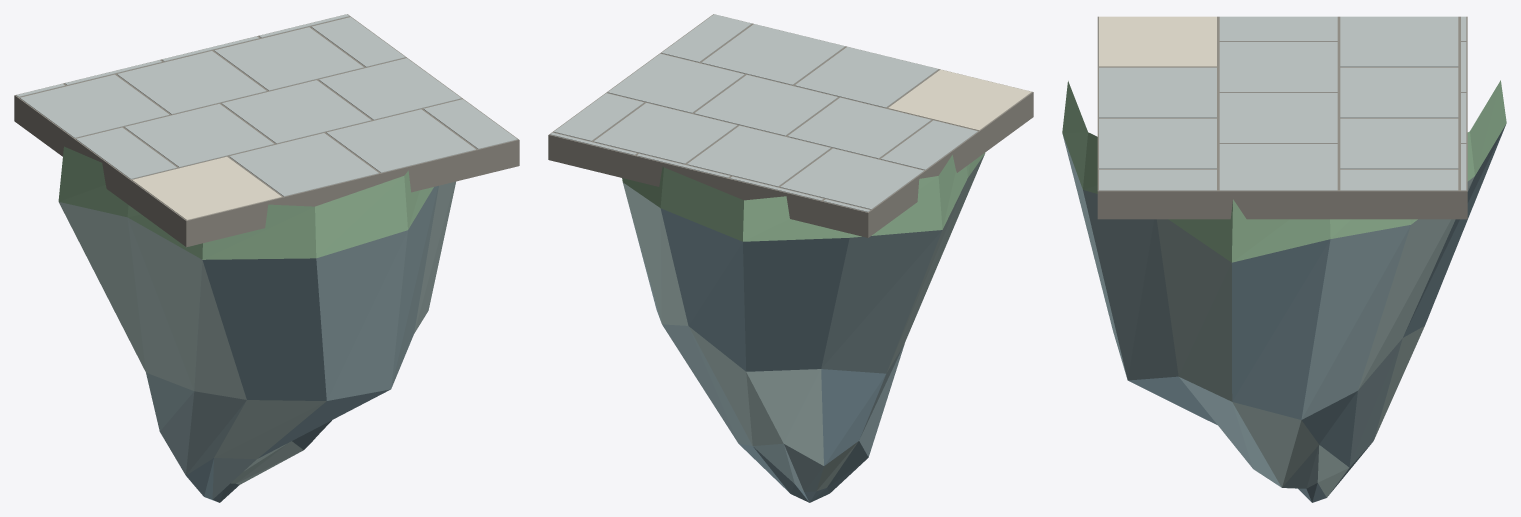
The model's file is FloatingIsland11.glb.
The picture shows the model from 3 angles, left to right: view 1: azimuth 30°, elevation 25°; view 2: azimuth 150°, elevation 25°; view 3: azimuth 270°, elevation 25°; orthographic projection. The views are drawn at different scales.
Visible parts, largest first — view 1: FloatingIsland11; view 2: FloatingIsland11; view 3: FloatingIsland11.
Part boxes in pixels (x1,y1,x2,y2): FloatingIsland11: (14, 14, 519, 502); FloatingIsland11: (548, 14, 1033, 502); FloatingIsland11: (1062, 16, 1506, 502).
Size of the model in its own units: 3.82 by 4.01 by 3.87.
